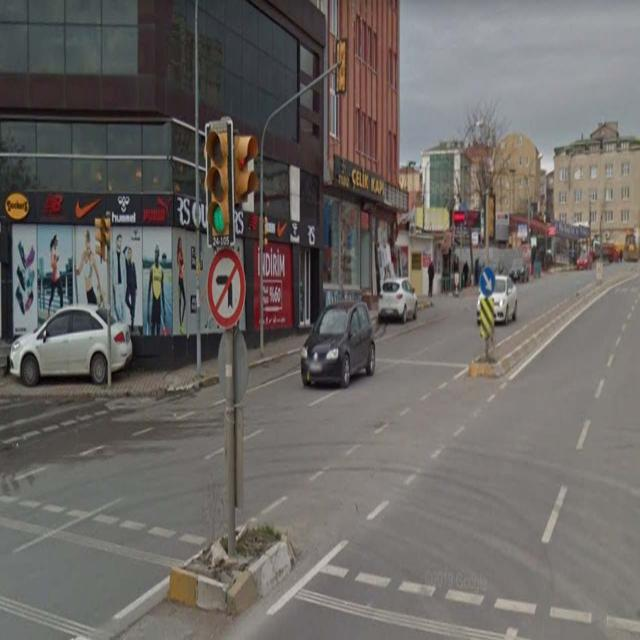soladonulmez: (207, 249, 246, 327)
yesil: (205, 122, 232, 247)
